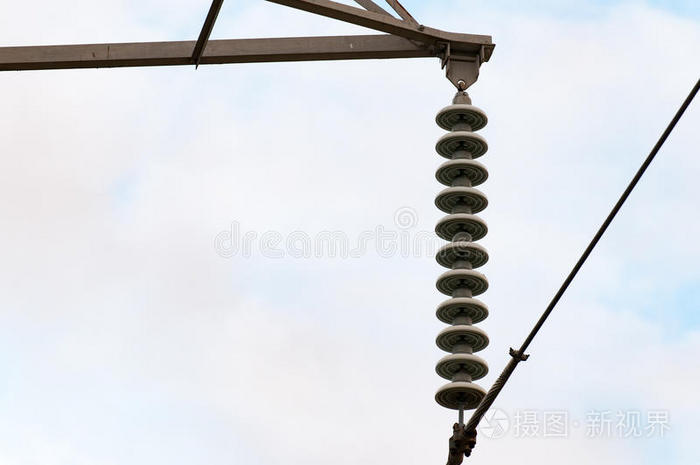insulator: (433, 104, 488, 411)
